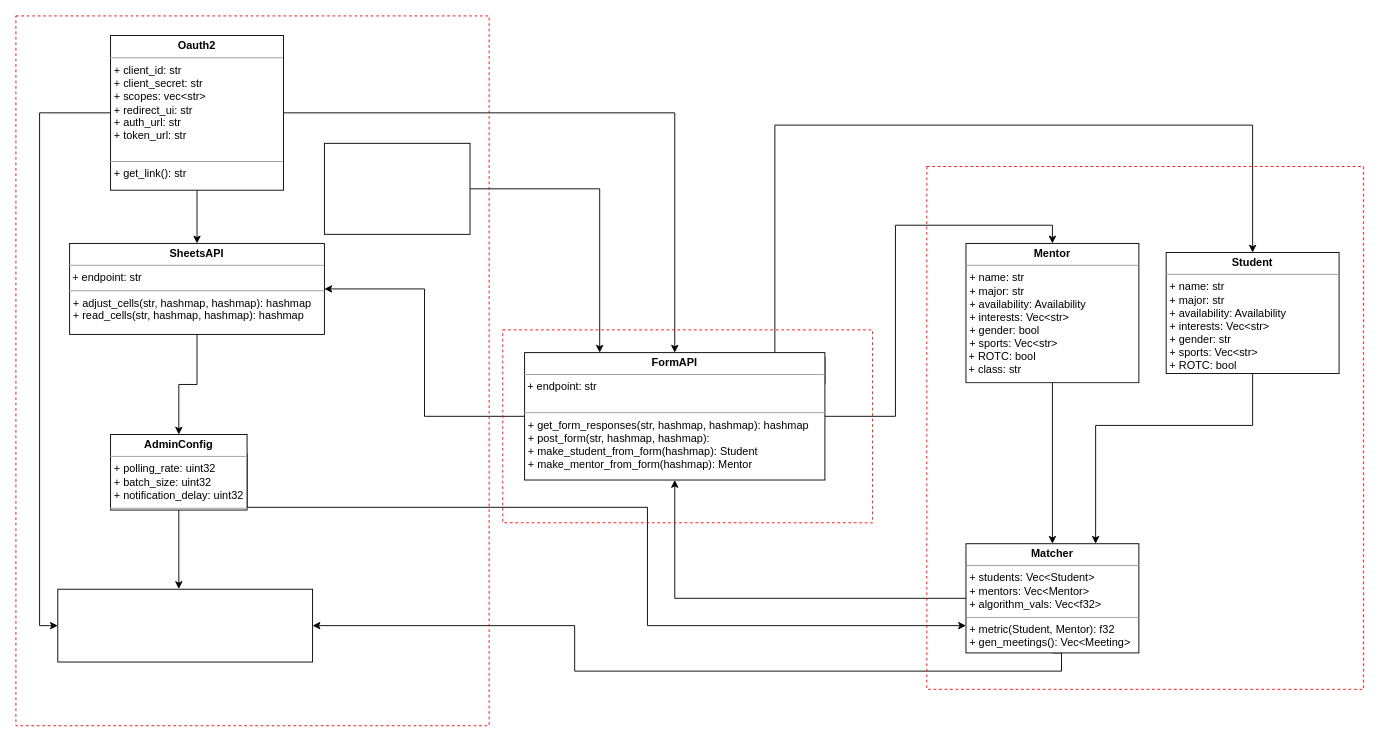
The diagram is 1380 pixels wide and 742 high, and some of its shapes have lost their labels. Each missing label, with the centre of its shape:
"EmailAPI + sender_address: str + send_email(message: str): bool" belongs at point 185,625.
"Form + endpoint: str + question_count: + serialize() : hashmap" belongs at point 397,188.
